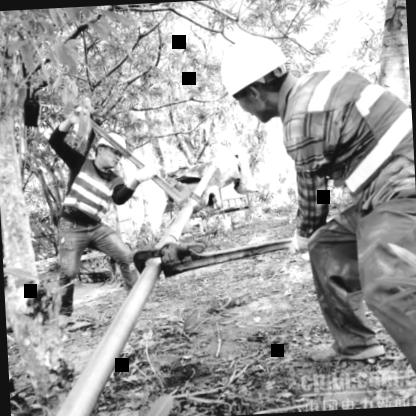helmet: (212, 30, 300, 127), (88, 123, 128, 172)
